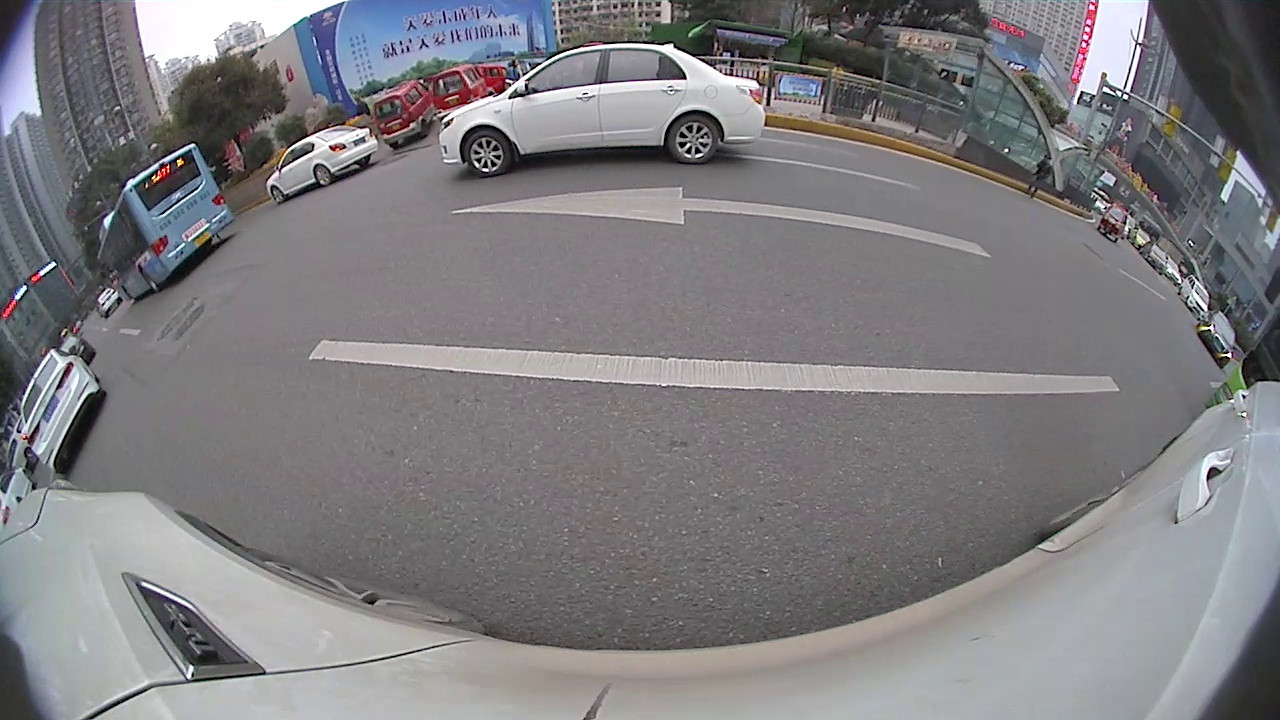bus: (97, 141, 237, 303), (1204, 262, 1279, 416)
car: (437, 41, 768, 178), (19, 348, 107, 485), (268, 124, 381, 204), (1198, 311, 1236, 369), (3, 463, 38, 519), (57, 329, 97, 366), (1180, 273, 1211, 318), (1138, 241, 1168, 273), (94, 285, 123, 318)
front: (463, 128, 514, 177), (269, 184, 288, 206)
person: (1038, 151, 1052, 193)
rear: (668, 113, 721, 164), (138, 269, 164, 296), (312, 163, 334, 188)
rider: (1099, 201, 1129, 242)
